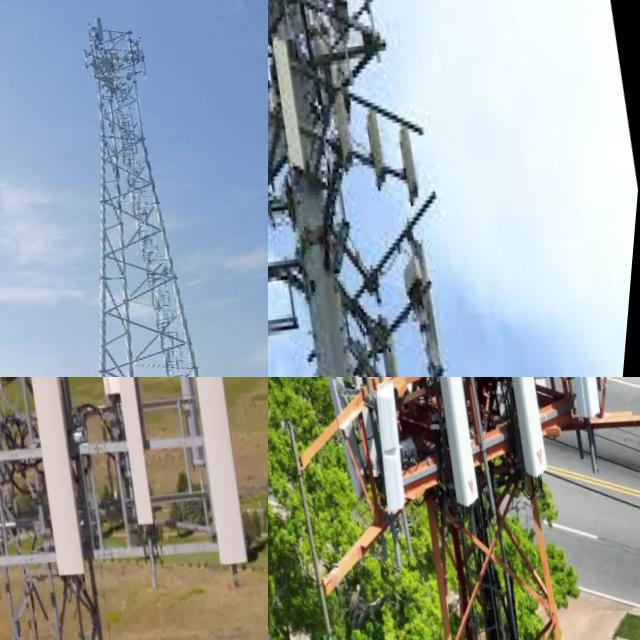GSM Antenna: (0, 377, 122, 579), (159, 377, 268, 568), (94, 377, 183, 539), (414, 377, 504, 505), (402, 222, 466, 376), (362, 377, 430, 516), (481, 377, 577, 473), (268, 17, 323, 167), (319, 377, 386, 500), (156, 377, 229, 486), (390, 99, 435, 201), (360, 96, 402, 188), (373, 297, 417, 377), (326, 75, 364, 153), (552, 377, 622, 417), (358, 333, 395, 377), (90, 8, 111, 40), (75, 38, 98, 67)
Microwave Antenna: (120, 37, 147, 61)
